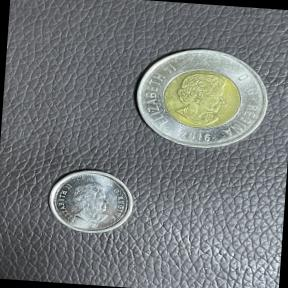Canada-10cent-B: (42, 163, 138, 240)
Canada-2Dollar-B: (125, 40, 276, 161)
